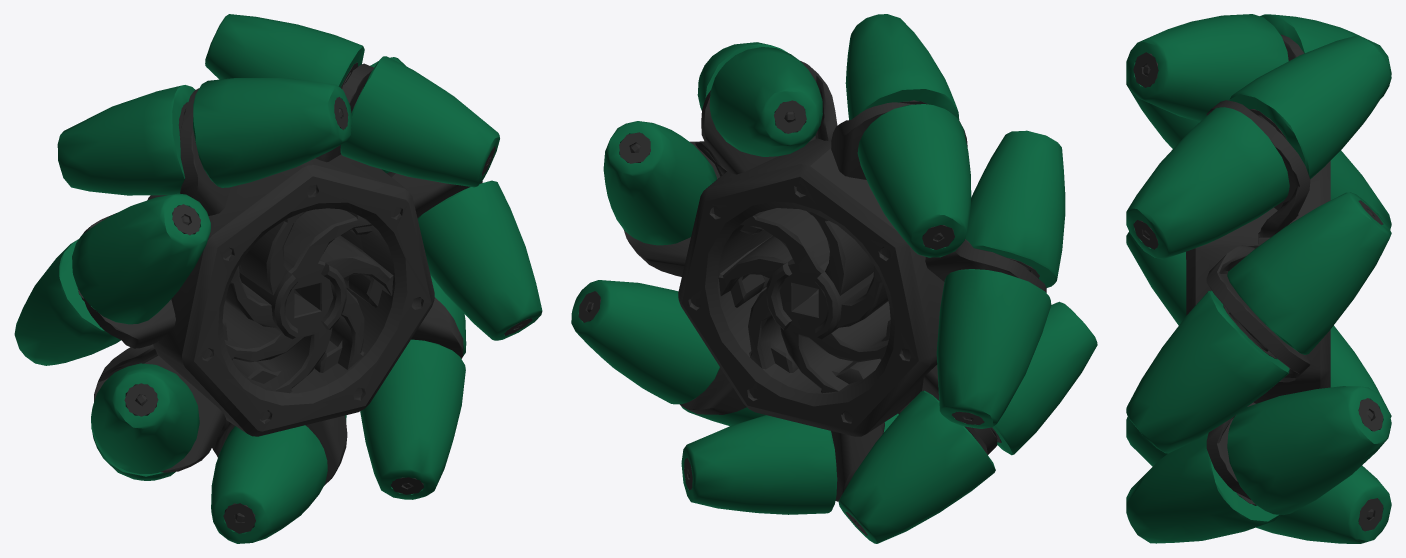
The model's file is 4_Mecanum_Wheel_Left.glb.
The picture shows the model from 3 angles, left to right: view 1: azimuth 30°, elevation 25°; view 2: azimuth 150°, elevation 25°; view 3: azimuth 270°, elevation 25°; orthographic projection. The views are drawn at different scales.
Parts seen in each view (by area): view 1: 4 Mecanum Wheel Left; view 2: 4 Mecanum Wheel Left; view 3: 4 Mecanum Wheel Left.
Boxes of the visible parts, x1,y1,x2,y2 form: 4 Mecanum Wheel Left: [14, 14, 542, 543]; 4 Mecanum Wheel Left: [571, 14, 1097, 543]; 4 Mecanum Wheel Left: [1126, 14, 1391, 543].
Size of the model in its own units: 4.05 by 4.05 by 2.03.
